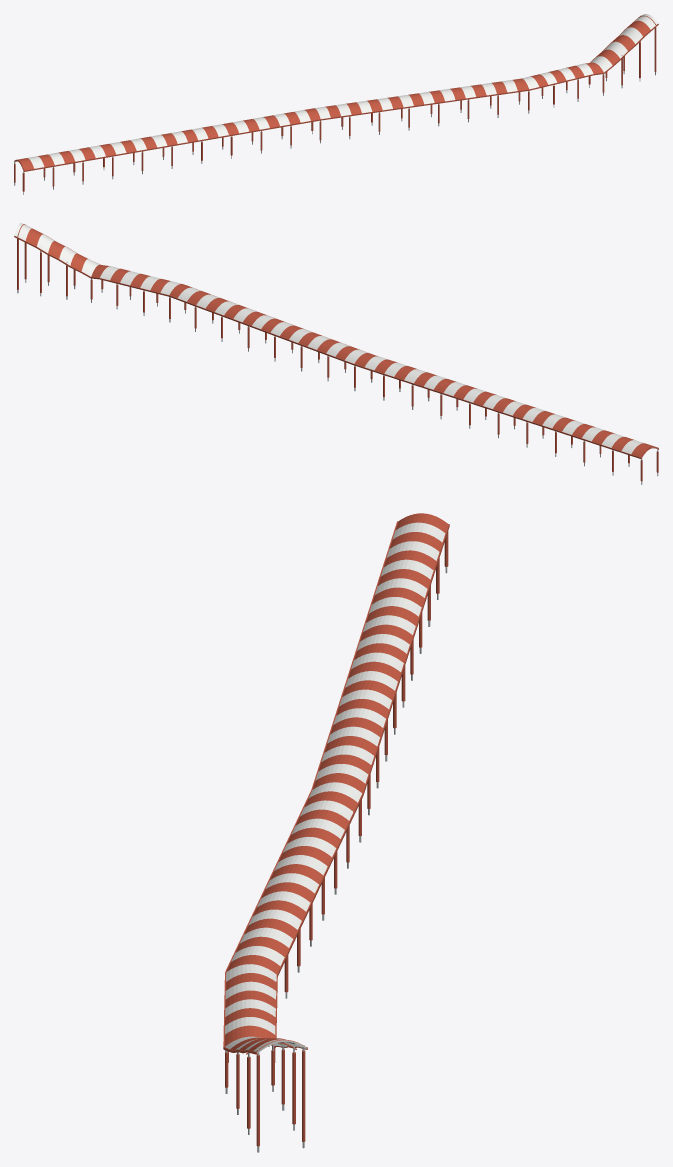
3 views of the same model, one above another, from view 1: azimuth 30°, elevation 25°; view 2: azimuth 150°, elevation 25°; view 3: azimuth 270°, elevation 25° (orthographic). The views are drawn at different scales.
Parts seen in each view (by area): view 1: covered-walkway__red, covered-walkway__cap, covered-walkway__canopy-sleeve, covered-walkway__column-steel; view 2: covered-walkway__red, covered-walkway__cap, covered-walkway__canopy-sleeve, covered-walkway__column-steel; view 3: covered-walkway__red, covered-walkway__cap, covered-walkway__canopy-sleeve.
Boxes of the visible parts, x1,y1,x2,y2 form: covered-walkway__red: [14, 15, 658, 171]; covered-walkway__cap: [28, 14, 658, 168]; covered-walkway__canopy-sleeve: [14, 27, 656, 191]; covered-walkway__column-steel: [14, 24, 655, 194]; covered-walkway__red: [14, 224, 658, 458]; covered-walkway__cap: [14, 223, 644, 453]; covered-walkway__canopy-sleeve: [17, 238, 658, 481]; covered-walkway__column-steel: [17, 235, 658, 484]; covered-walkway__red: [223, 513, 449, 1054]; covered-walkway__cap: [225, 522, 445, 1053]; covered-walkway__canopy-sleeve: [225, 531, 448, 1146].
Bounding box in the file's own units: 80.56 × 7.17 × 13.16.
